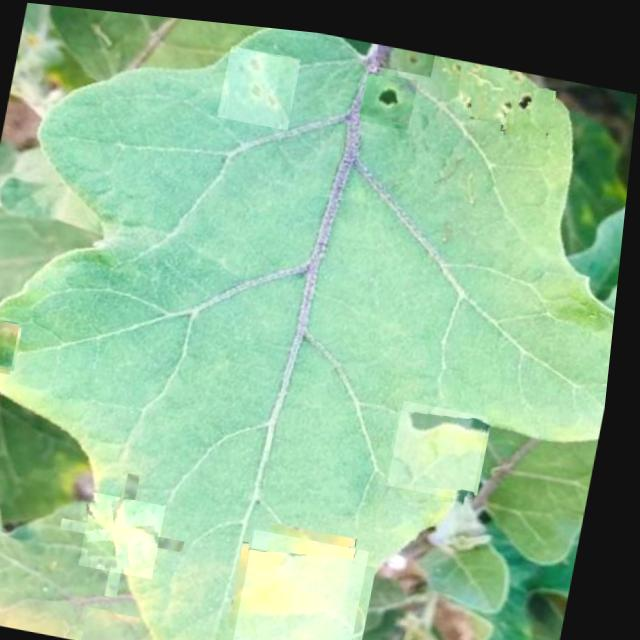leaf_spot: (245, 520, 381, 640), (396, 389, 496, 489), (90, 487, 177, 574), (219, 38, 302, 123), (454, 49, 523, 111), (2, 587, 86, 636), (499, 69, 558, 128), (360, 61, 418, 120), (94, 603, 154, 640), (374, 35, 435, 67), (0, 312, 27, 372)
